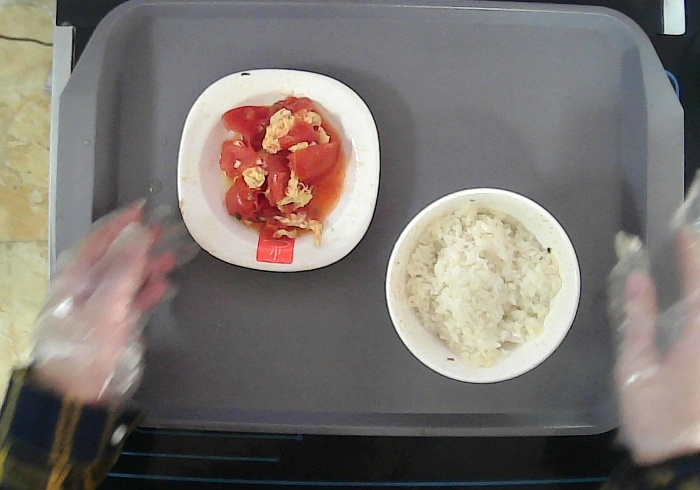SHKJ-Bai_Se_Si_Fang_Cai_Die: (174, 66, 382, 273)
SHKJ-Fan_Wan: (383, 185, 583, 384)
